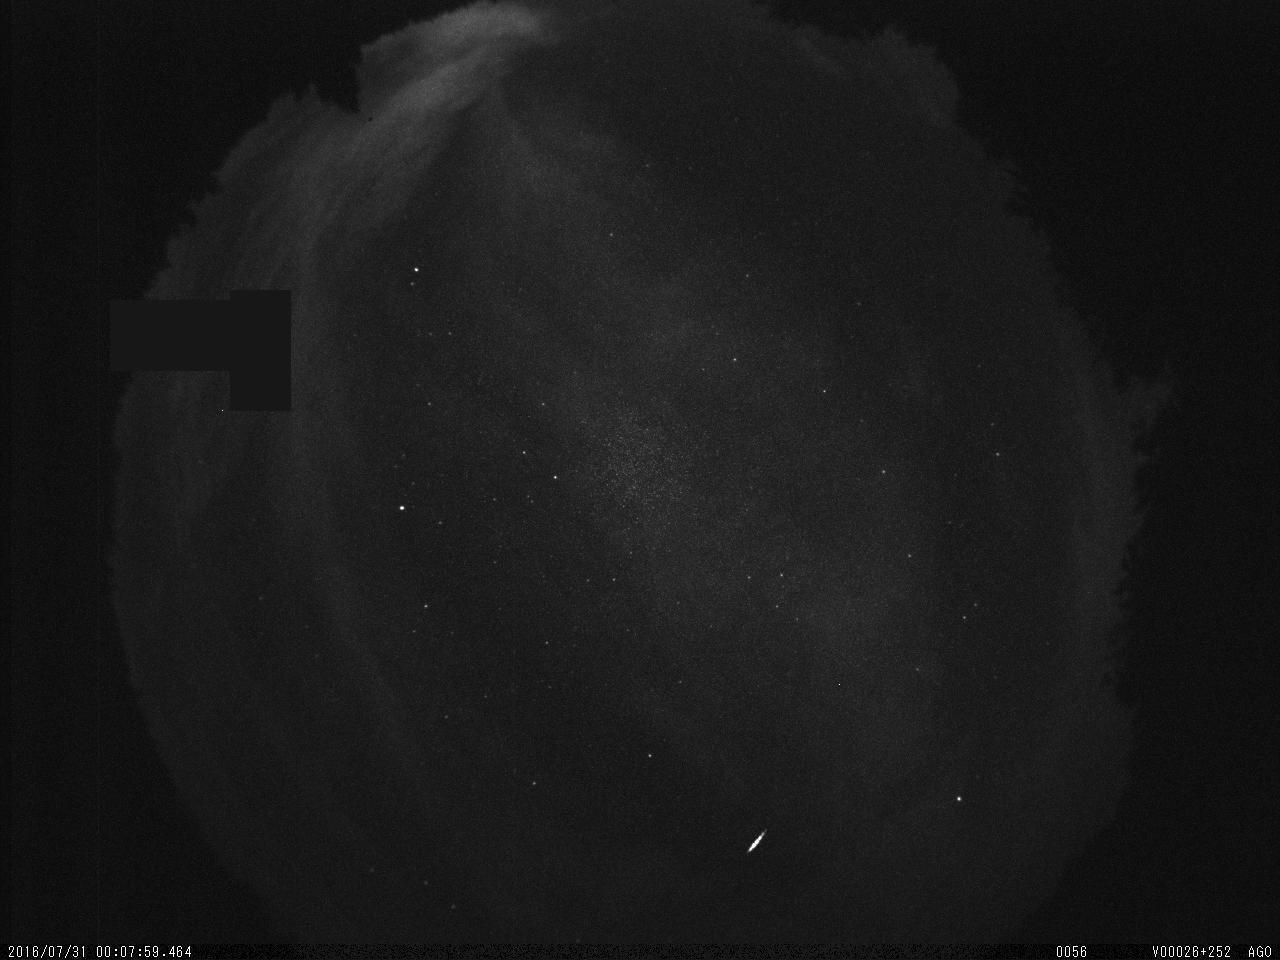Meteor: (744, 825, 768, 854)
